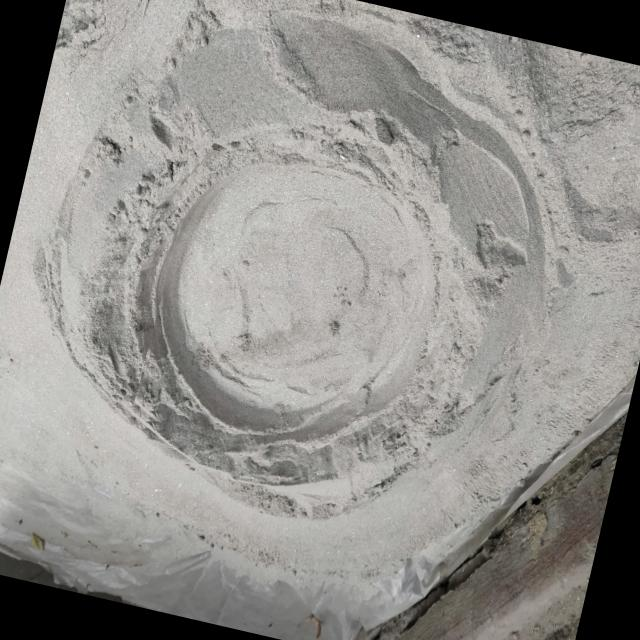C40: (161, 163, 434, 455)
